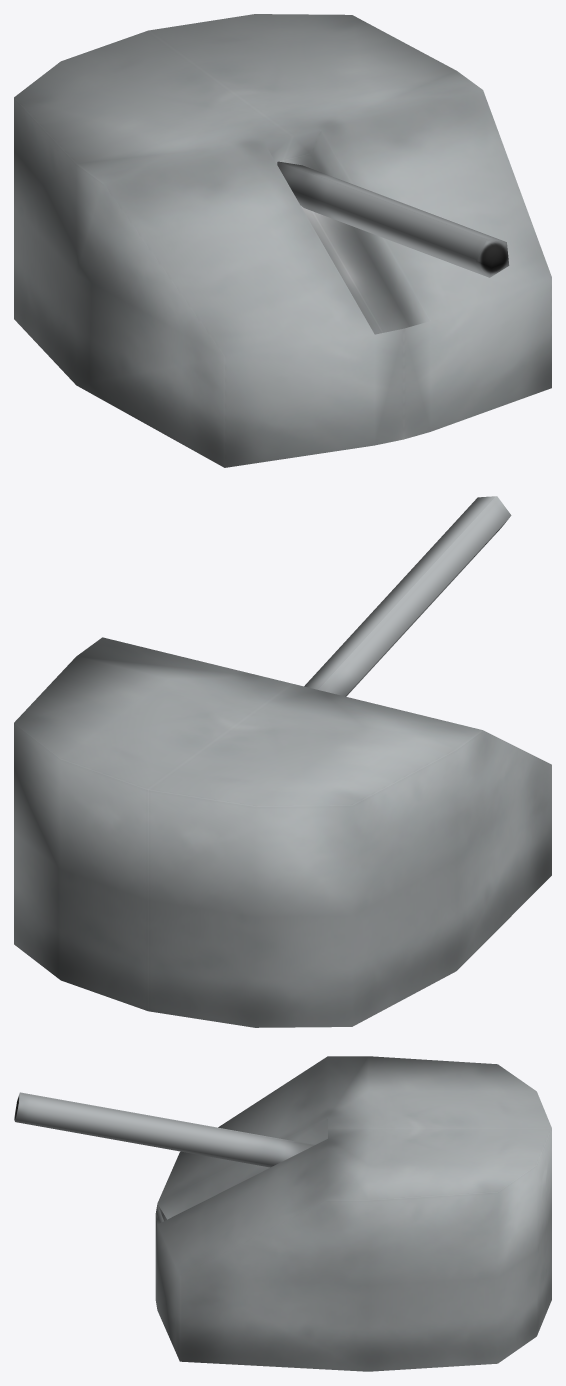
Rendered from player_warship_cannon.glb.
3 renders of one model, top to bottom at view 1: azimuth 30°, elevation 25°; view 2: azimuth 150°, elevation 25°; view 3: azimuth 270°, elevation 25°, orthographic. The views are drawn at different scales.
Parts seen in each view (by area): view 1: pCube35_Frigate_material2_0.001; view 2: pCube35_Frigate_material2_0.001; view 3: pCube35_Frigate_material2_0.001.
Part boxes in pixels (bbox=[...]): pCube35_Frigate_material2_0.001: bbox=[14, 14, 551, 467]; pCube35_Frigate_material2_0.001: bbox=[14, 496, 551, 1027]; pCube35_Frigate_material2_0.001: bbox=[14, 1056, 551, 1371].
Size of what is drawn, in the model's own units: 3.25 by 2.16 by 5.13.
1 material, 1 textured.
